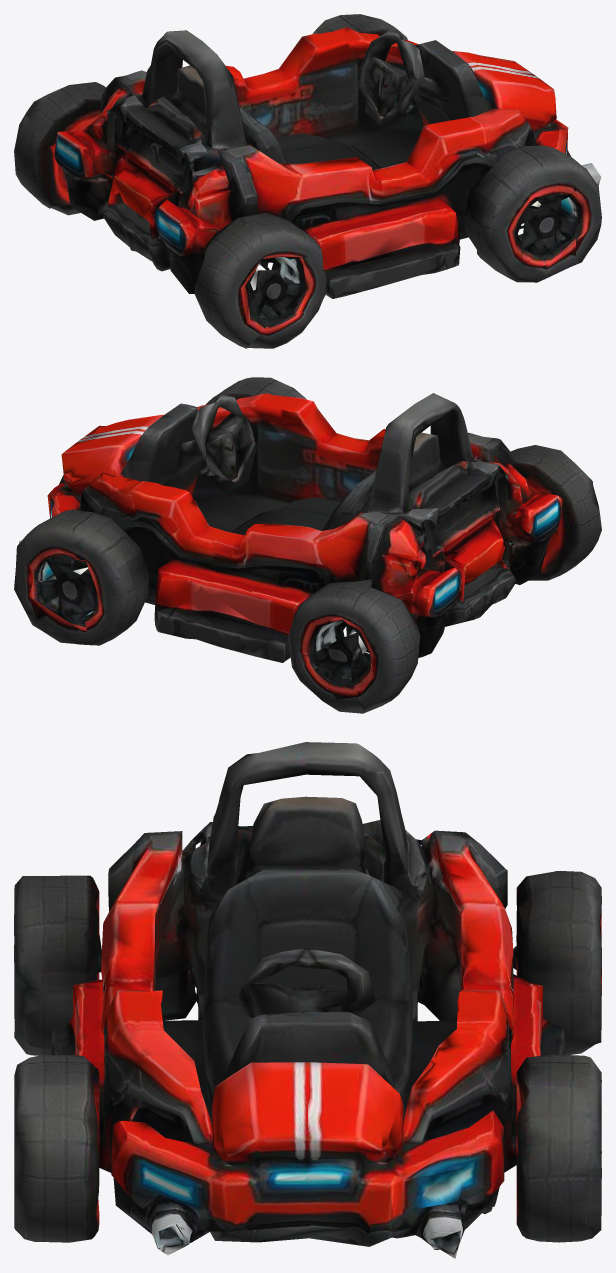
File: hero-kart-tripo.glb
3 views of the same model, one above another, from view 1: azimuth 30°, elevation 25°; view 2: azimuth 150°, elevation 25°; view 3: azimuth 270°, elevation 25° (orthographic). The views are drawn at different scales.
Parts seen in each view (by area): view 1: tripo_node_8032b6ec-10cf-43bb-abef-1cbd3a130a94; view 2: tripo_node_8032b6ec-10cf-43bb-abef-1cbd3a130a94; view 3: tripo_node_8032b6ec-10cf-43bb-abef-1cbd3a130a94.
Part boxes in pixels (x1,y1,x2,y2): tripo_node_8032b6ec-10cf-43bb-abef-1cbd3a130a94: (14,14,601,348); tripo_node_8032b6ec-10cf-43bb-abef-1cbd3a130a94: (14,377,601,713); tripo_node_8032b6ec-10cf-43bb-abef-1cbd3a130a94: (14,742,601,1258).
Bounding box in the file's own units: 0.9977 × 0.502 × 0.8465.
1 material, 1 textured.
